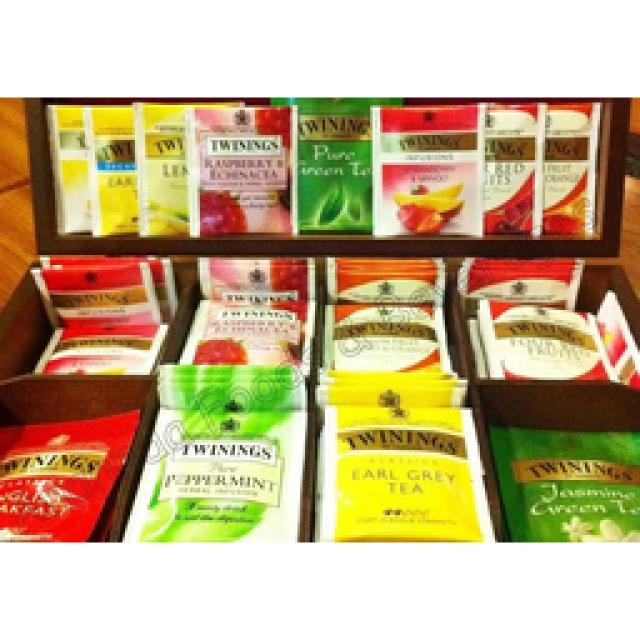tea-bags: (46, 99, 600, 237), (125, 257, 313, 543), (316, 259, 491, 541), (458, 259, 640, 389), (0, 410, 139, 544), (31, 256, 179, 374), (489, 427, 640, 542)
